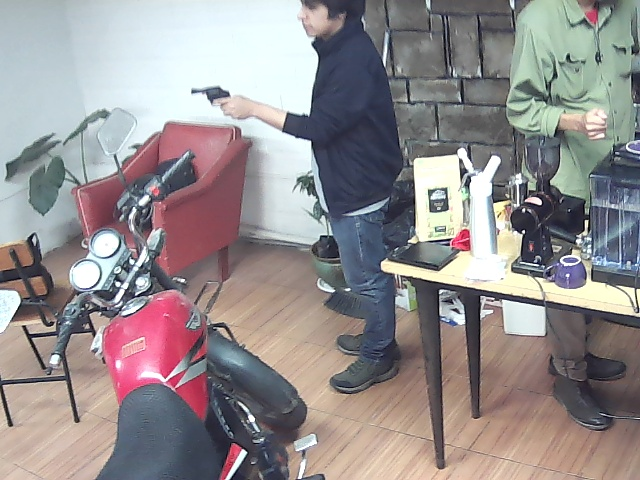pistola: (182, 72, 254, 130)
